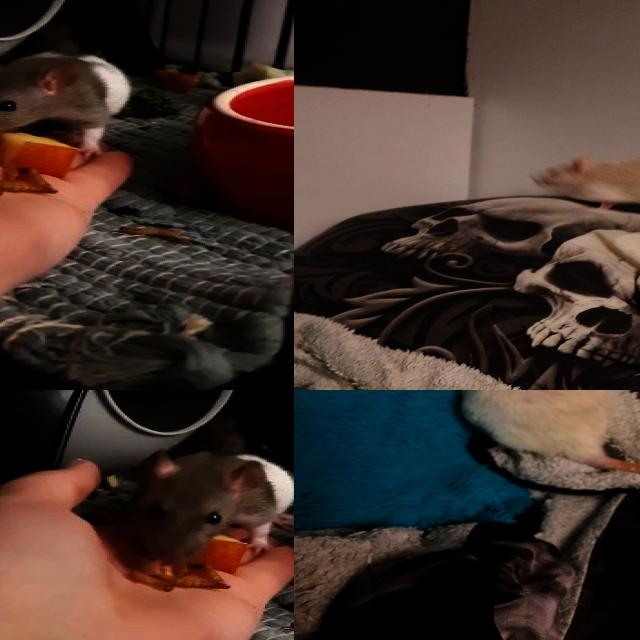rat: (123, 448, 294, 571), (0, 45, 133, 155), (446, 390, 612, 469), (531, 148, 640, 230)
